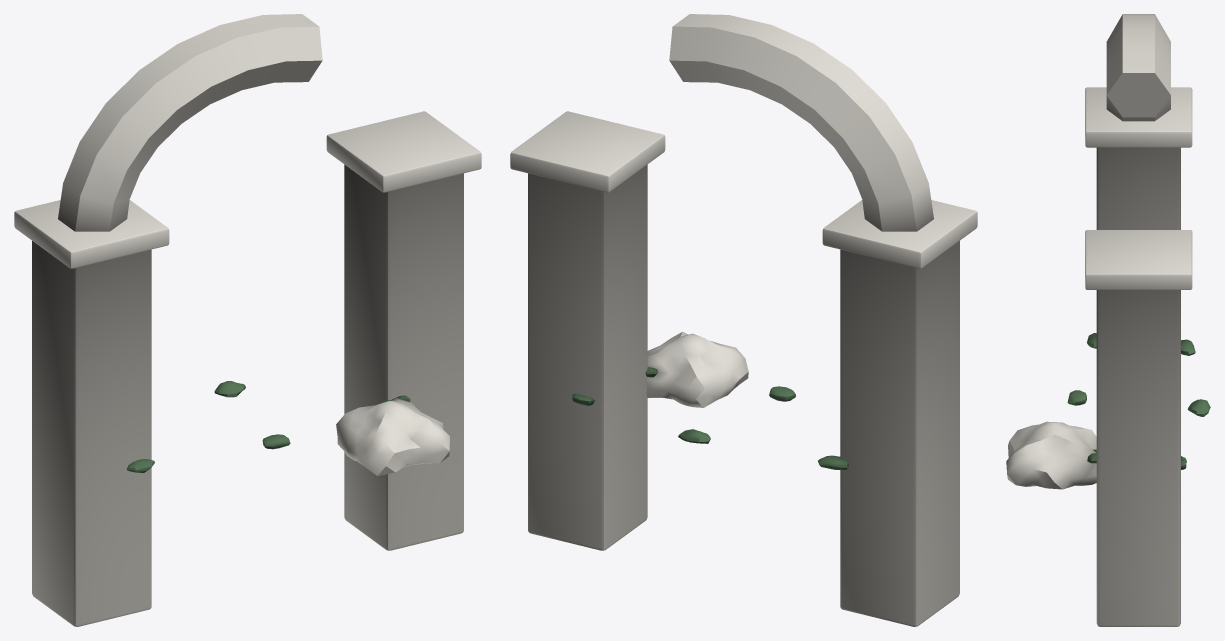
The model's file is archruin.glb.
3 views of the same model, side by side, from view 1: azimuth 30°, elevation 25°; view 2: azimuth 150°, elevation 25°; view 3: azimuth 270°, elevation 25° (orthographic). The views are drawn at different scales.
Visible parts, largest first — view 1: boat_marble, boat_weed; view 2: boat_marble, boat_weed; view 3: boat_marble, boat_weed.
Part boxes in pixels (box(x1,y1,x2,y2)): boat_marble: box(14, 14, 481, 626); boat_weed: box(126, 381, 410, 472); boat_marble: box(510, 14, 977, 626); boat_weed: box(572, 367, 848, 469); boat_marble: box(1006, 14, 1192, 626); boat_weed: box(1067, 333, 1210, 469).
Bounding box in the file's own units: 5.8 × 7.25 × 2.67.
